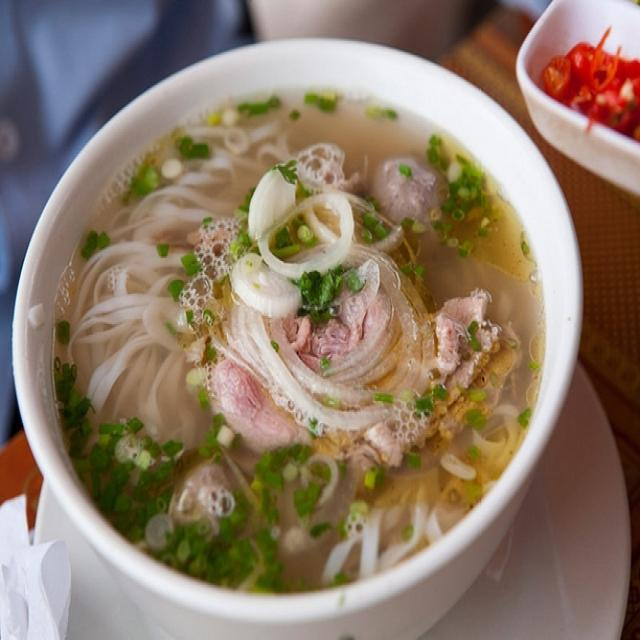面条主食: (27, 42, 566, 614)
